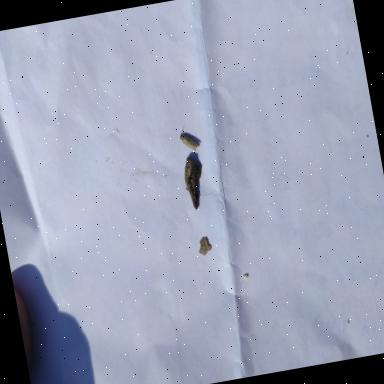pbw: (177, 124, 199, 154)
